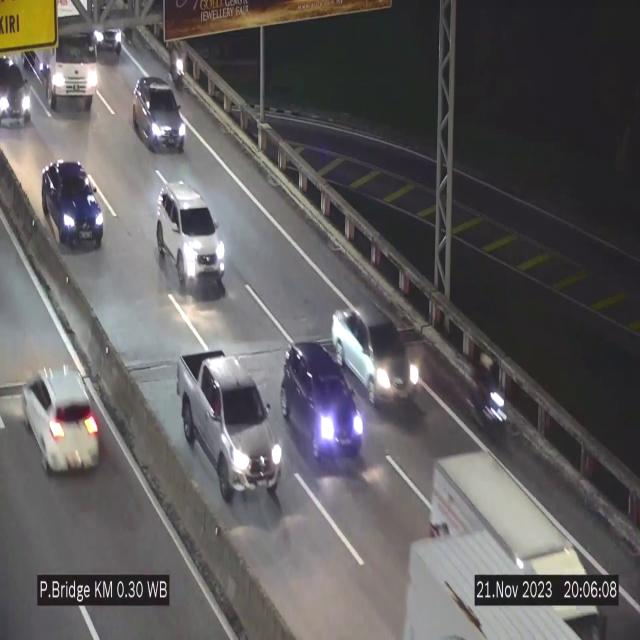Car: (177, 354, 283, 522), (16, 356, 110, 486), (281, 341, 363, 466), (331, 306, 421, 415), (156, 181, 226, 297), (41, 159, 108, 252), (132, 77, 186, 151), (0, 54, 38, 129), (87, 0, 123, 57)
Motorcycle: (23, 0, 94, 117), (468, 349, 510, 450), (168, 40, 192, 91)
Truck: (421, 457, 608, 640), (392, 519, 588, 640)
